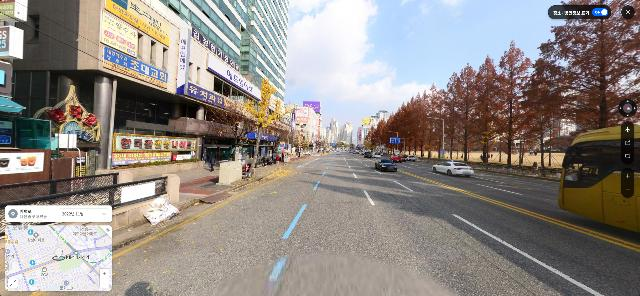ginkgo: (241, 77, 292, 174)
other: (541, 1, 639, 127), (519, 22, 590, 167), (491, 39, 534, 165), (442, 60, 484, 162), (211, 86, 251, 175), (472, 54, 504, 163), (427, 84, 456, 160), (415, 89, 436, 159), (399, 96, 420, 157), (389, 105, 407, 156)
